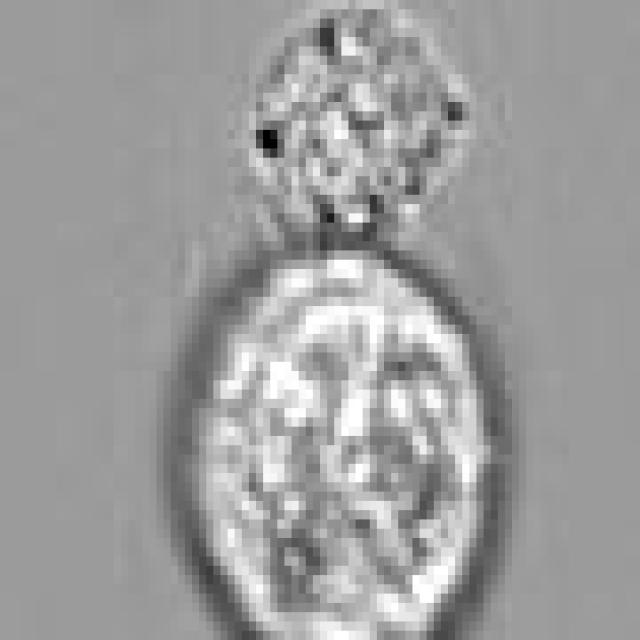Cancer Cell: (185, 241, 505, 640)
WBC: (256, 9, 469, 250)
